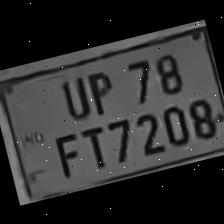0: (153, 96, 192, 148)
2: (127, 106, 166, 158)
7: (117, 52, 157, 106), (100, 113, 138, 165)
8: (148, 46, 186, 97), (182, 92, 220, 142)
F: (47, 128, 87, 180)
P: (79, 61, 119, 116)
T: (74, 120, 113, 173)
U: (52, 68, 94, 122)
